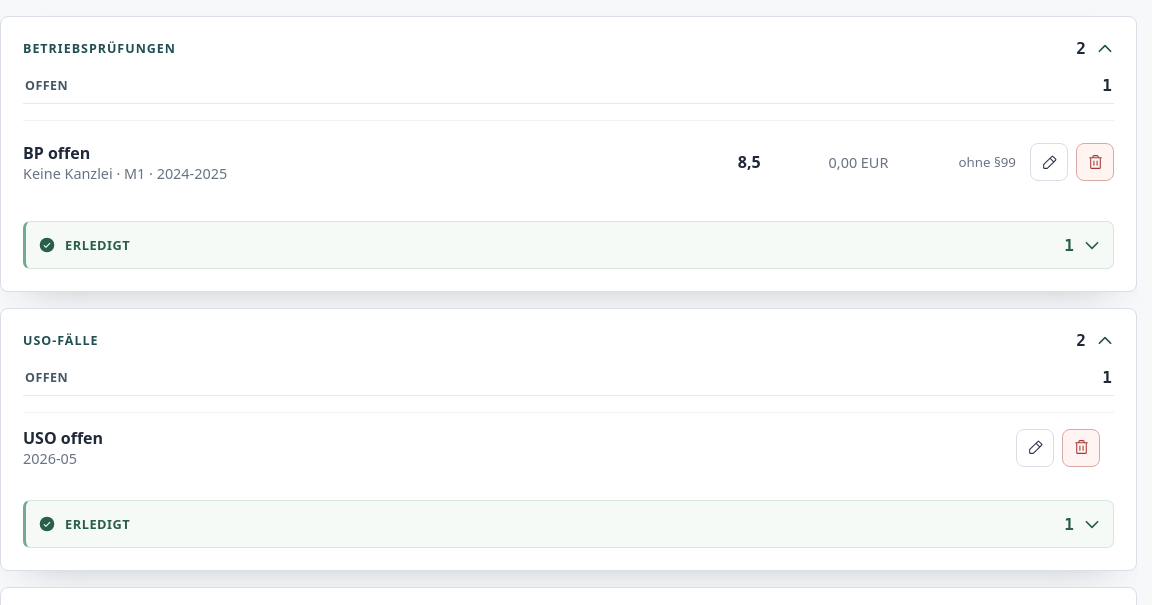
Test: point case list status presentation › expands completed cases by pointer and keyboard-generated activation while updating ARIA
(page scrolled)
Click the button "Erledigt 1" below "Keine Kanzlei" at (98, 245), box top-left (26, 222), bottom-right (1113, 268)
(page scrolled)
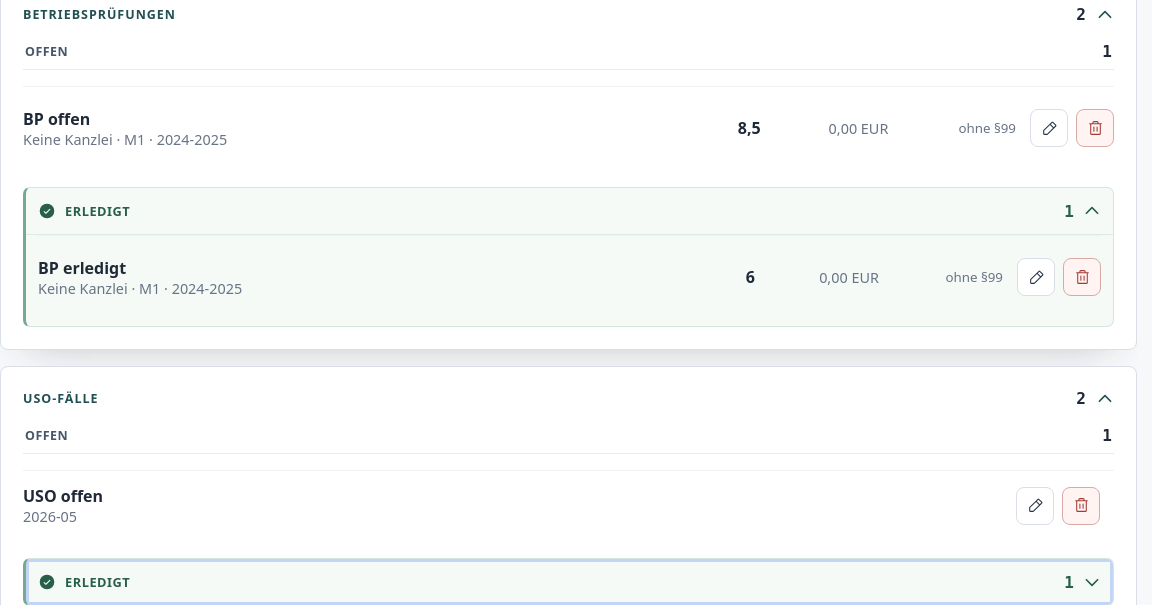
Result: the button "Erledigt 1" below "8,5" is expanded at top-left (26, 188), bottom-right (1113, 234)
Result: the text "BP erledigt" is shown at top-left (38, 257), bottom-right (126, 279)
Press Enter in the button "Erledigt 1" below "USO offen", box top-left (26, 559), bottom-right (1113, 604)
Click the button "Erledigt 1" below "USO offen" at (98, 582), box top-left (26, 559), bottom-right (1113, 604)
(page scrolled)
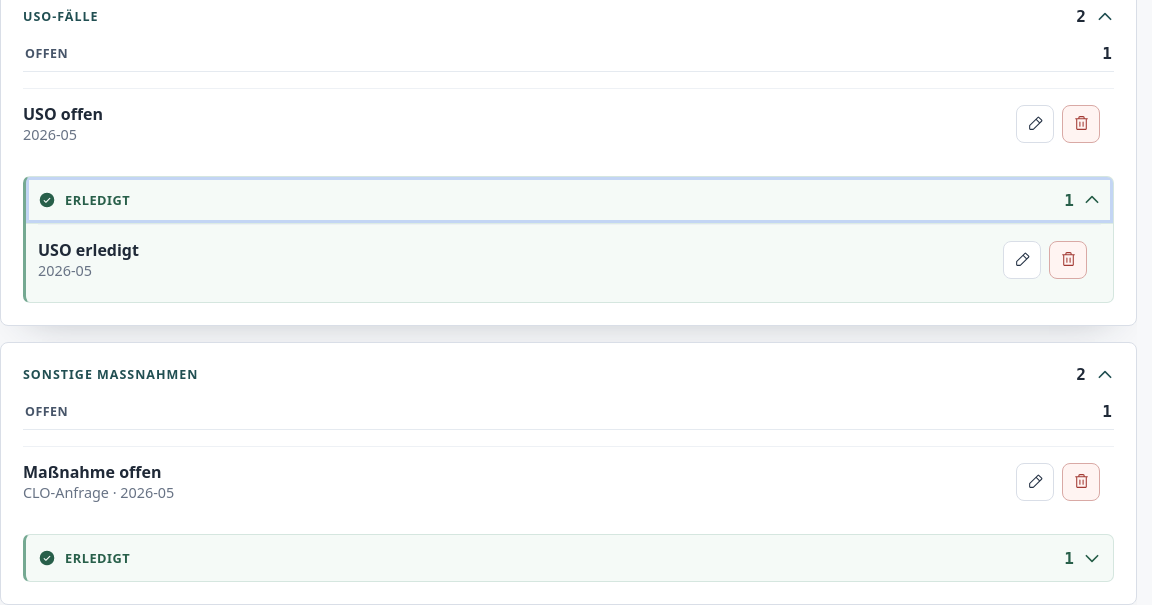
Result: the button "Erledigt 1" below "USO offen" is expanded at top-left (26, 177), bottom-right (1113, 223)
Result: the text "USO erledigt" is shown at top-left (38, 239), bottom-right (139, 261)
